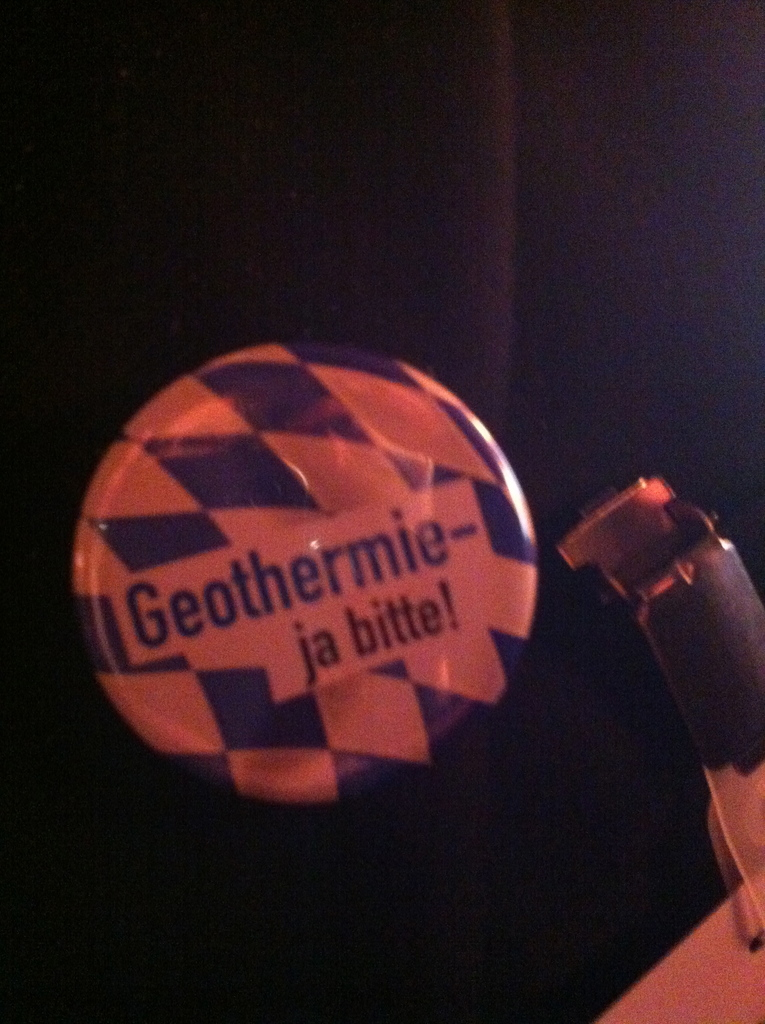Ball: (76, 342, 535, 806)
